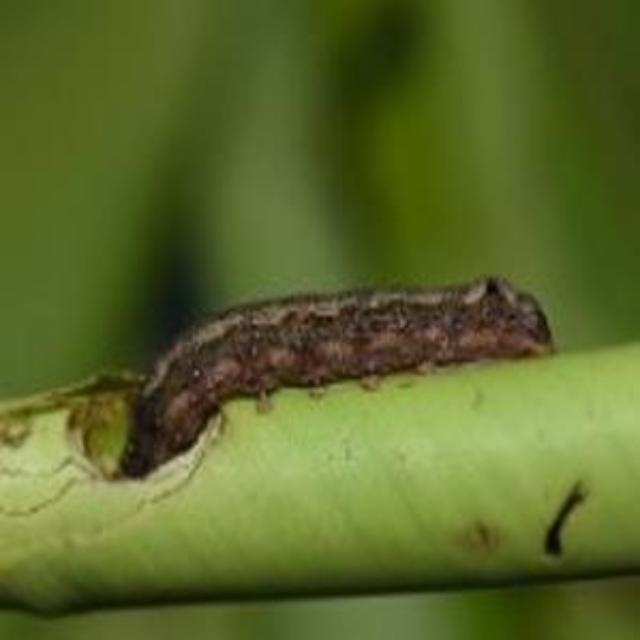Tobacco cutworm: (46, 198, 620, 532)
